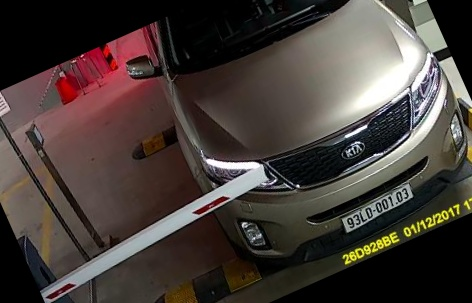plate: (330, 180, 414, 237)
